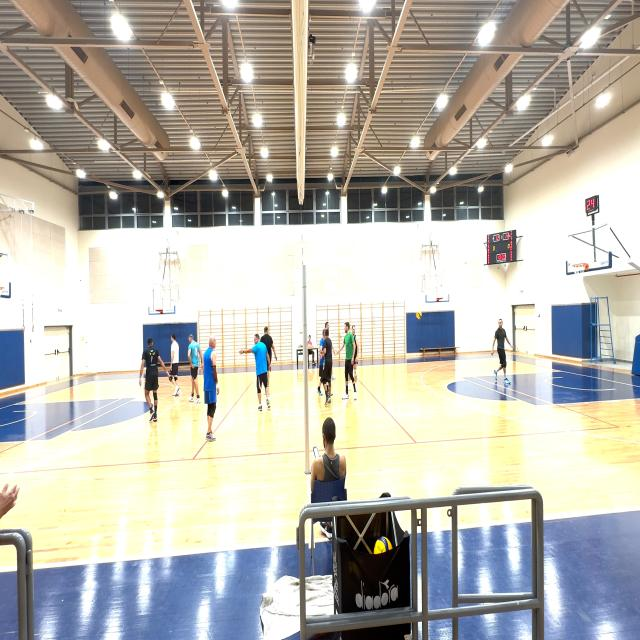volleyball: (373, 536, 392, 555), (416, 312, 422, 320)
